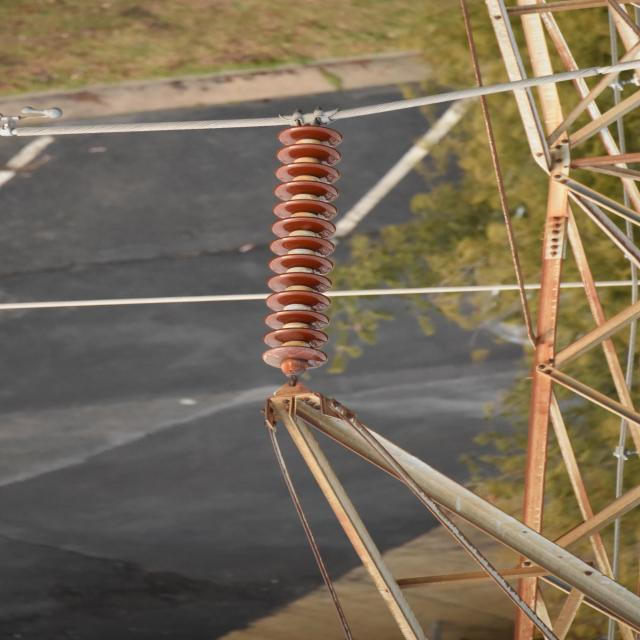insulator: (262, 123, 348, 368)
